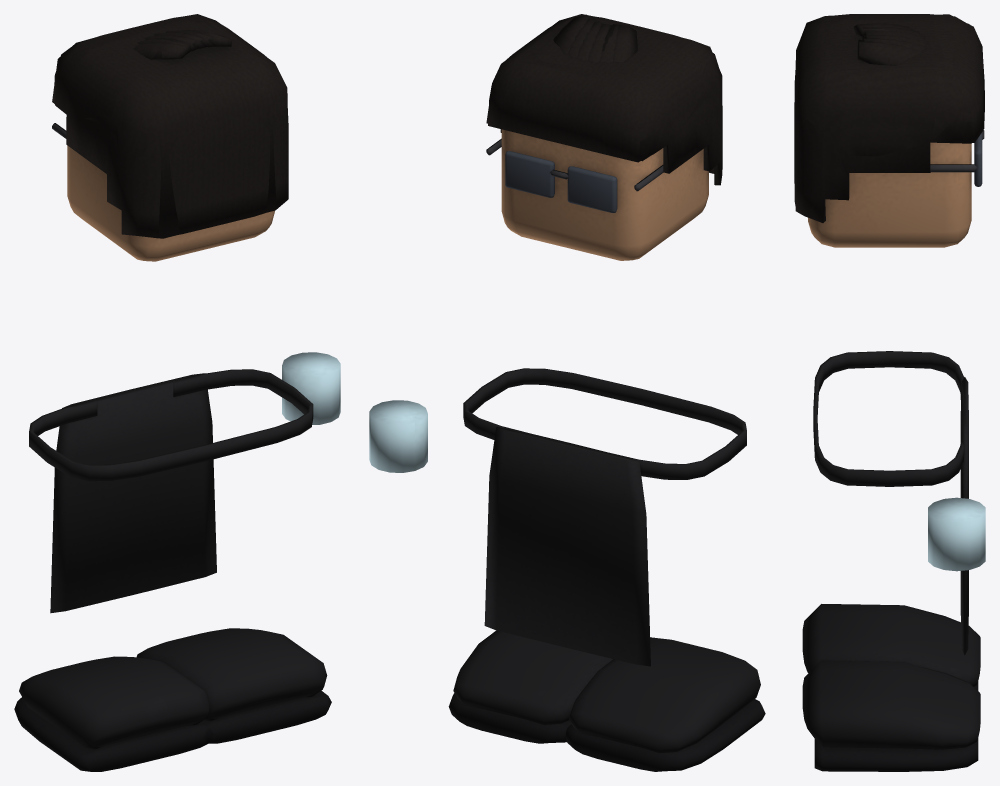
The model's file is Bloque_Oficio_Raul.fbx.
The picture shows the model from 3 angles, left to right: view 1: azimuth 30°, elevation 25°; view 2: azimuth 150°, elevation 25°; view 3: azimuth 270°, elevation 25°; orthographic projection.
Parts seen in each view (by area): view 1: Delantal, Pelo, ZapatoL, ZapatoR, PeloLOD, CabezaBloque, Vaso; view 2: Delantal, Pelo, ZapatoL, CabezaBloque, ZapatoR, PeloLOD, GafasSol, Vaso; view 3: Pelo, ZapatoR, CabezaBloque, ZapatoL, PeloLOD, Delantal, Vaso, GafasSol.
Part boxes in pixels (<box>): Delantal: <box>29,369,313,613</box>; Pelo: <box>54,15,288,238</box>; ZapatoL: <box>14,656,212,771</box>; ZapatoR: <box>136,628,331,743</box>; PeloLOD: <box>52,14,287,238</box>; CabezaBloque: <box>67,145,274,261</box>; Vaso: <box>282,352,340,424</box>; Delantal: <box>463,368,746,666</box>; Pelo: <box>488,14,722,185</box>; ZapatoL: <box>565,637,765,771</box>; CabezaBloque: <box>501,129,708,260</box>; ZapatoR: <box>448,630,612,743</box>; PeloLOD: <box>486,14,722,179</box>; GafasSol: <box>486,138,663,212</box>; Vaso: <box>369,400,427,472</box>; Pelo: <box>794,14,984,222</box>; ZapatoR: <box>802,660,980,771</box>; CabezaBloque: <box>808,142,971,247</box>; ZapatoL: <box>802,604,980,690</box>; PeloLOD: <box>795,14,984,214</box>; Delantal: <box>813,351,968,655</box>; Vaso: <box>928,497,985,571</box>; GafasSol: <box>930,130,984,186</box>.
Bounding box in the file's own units: 283 × 566 × 142.
